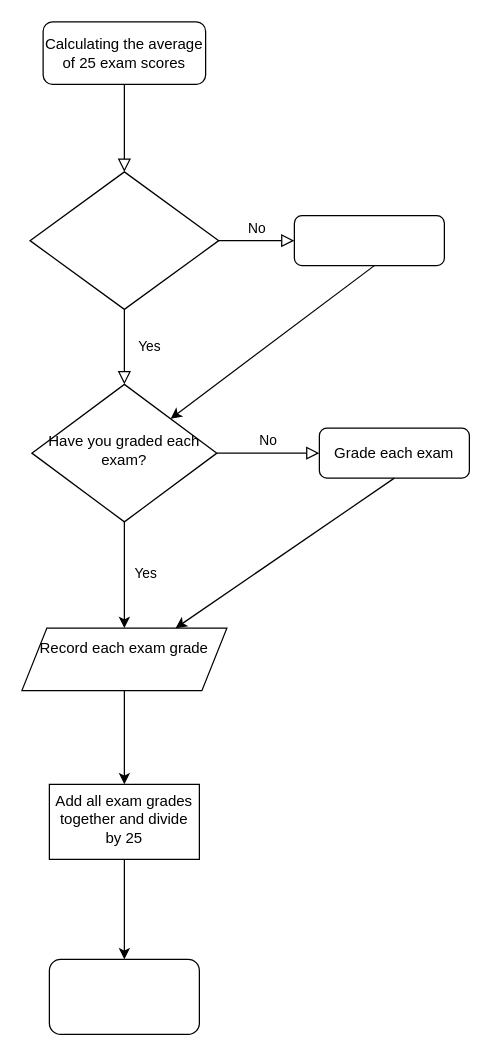
The diagram is 491 pixels wide and 1056 high, and some of its shapes have lost their labels. Here are the shapes that lost their labels. From the top down, the centre of each, then its label:
At (x=124, y=240): "Do you have all the exams collected?".
At (x=368, y=240): "Collect all the exams".
At (x=123, y=996): "Obtain average score".
